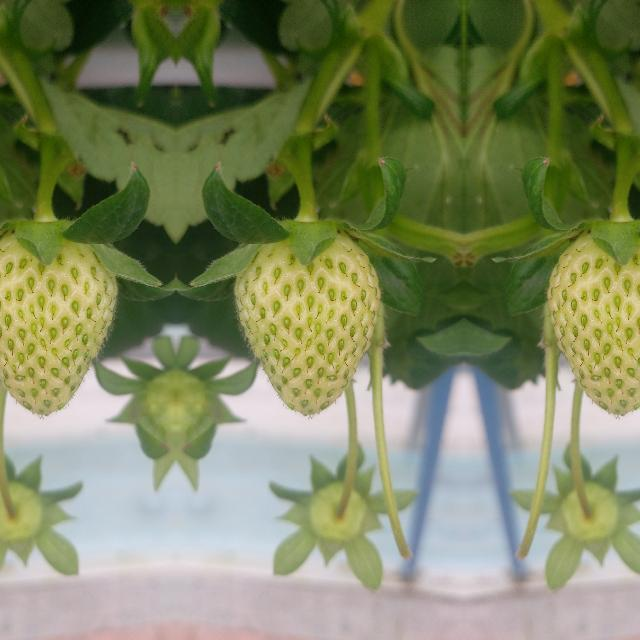Health_25: (233, 229, 379, 415), (0, 229, 117, 415), (547, 229, 640, 415)
